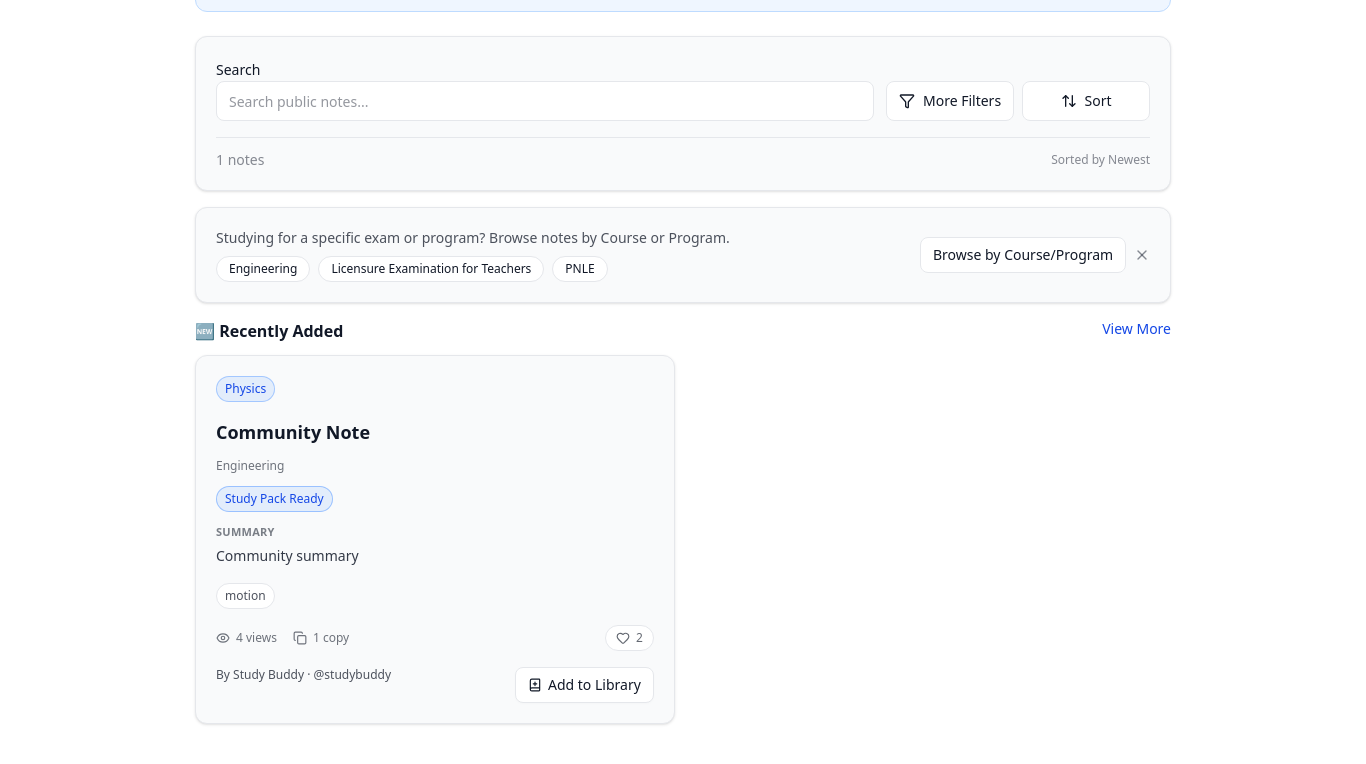
Test: PublicLibraryPageClient › updates the card like count when a user likes a public note
(page scrolled)
Check: the heading "Community Note" is shown, box [216,420,370,444]
What coordinates should you click on to do the following:
click the button named "Like note"
I would click on:
 (630, 638)
Its box is [605,625,654,651].
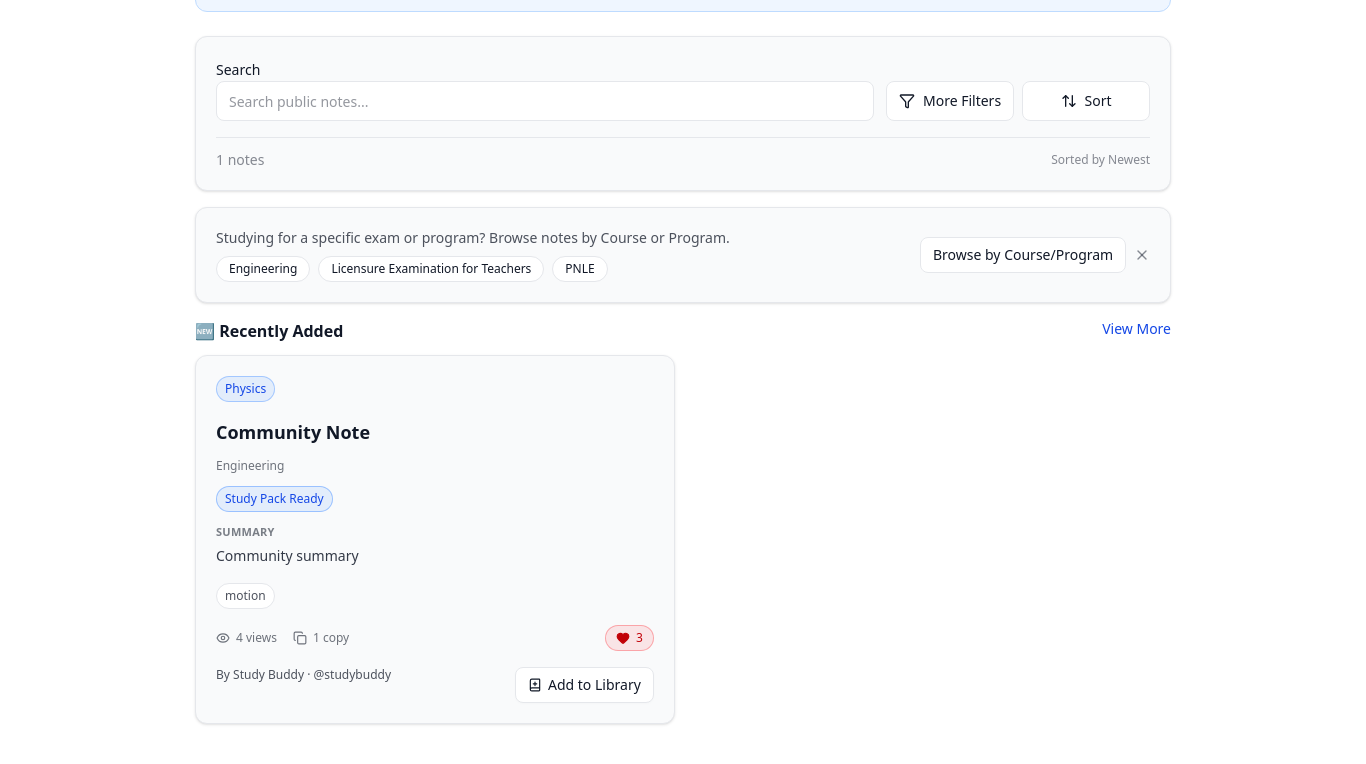
Check: the button named "Unlike note" reads "3", box [605,625,654,651]
